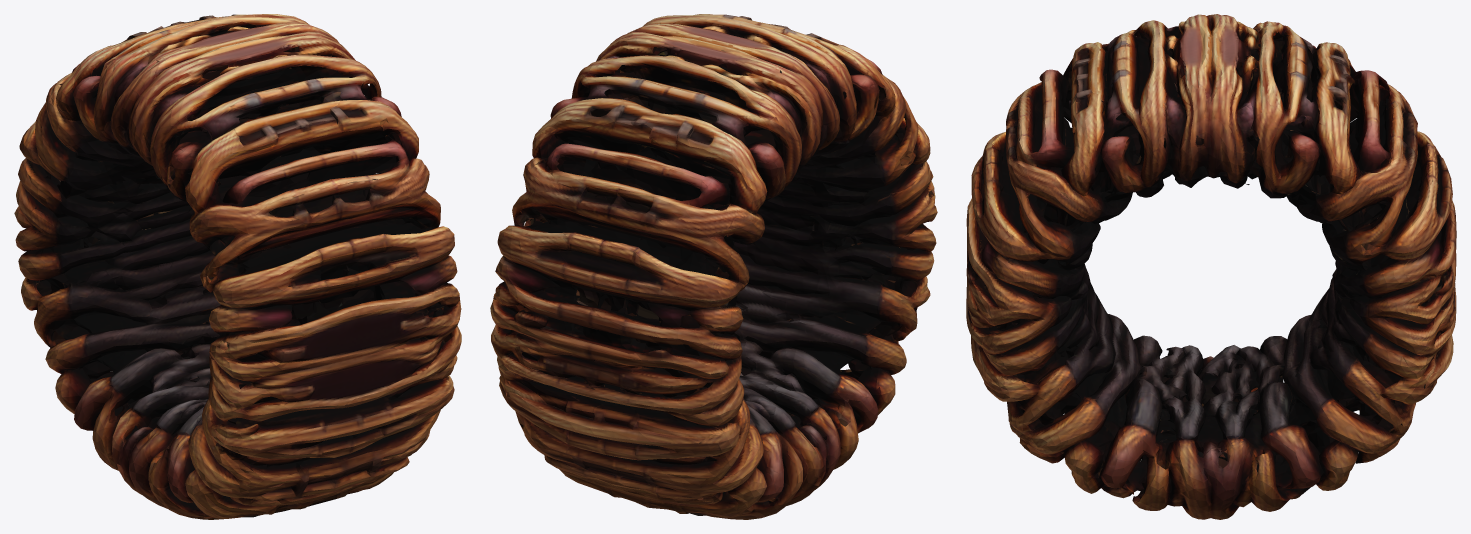
File: bobina_estator1.glb
The picture shows the model from 3 angles, left to right: view 1: azimuth 30°, elevation 25°; view 2: azimuth 150°, elevation 25°; view 3: azimuth 270°, elevation 25°; orthographic projection.
Parts seen in each view (by area): view 1: world; view 2: world; view 3: world.
Boxes of the visible parts, left/top/right/bottom form: world: left=14, top=14, right=461, bottom=519; world: left=490, top=14, right=937, bottom=519; world: left=966, top=14, right=1456, bottom=519.
Size of the model in its own units: 0.5654 by 0.9992 by 1.
Materials: 1 (1 with a texture image).
